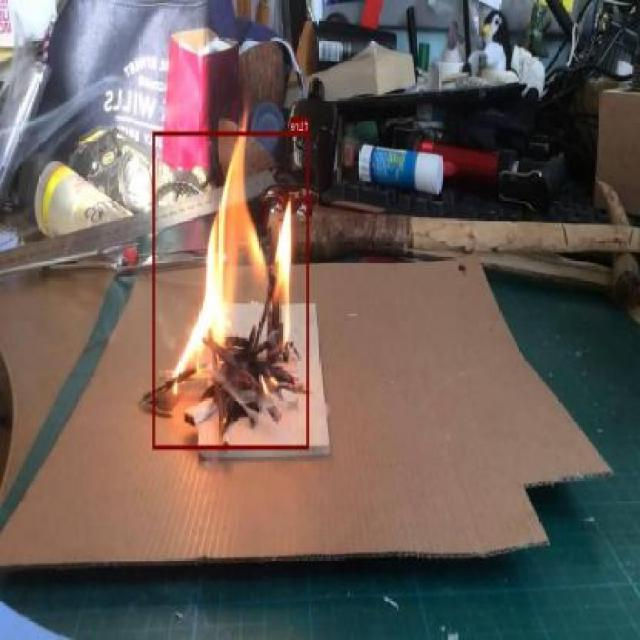fire: (153, 130, 310, 450)
